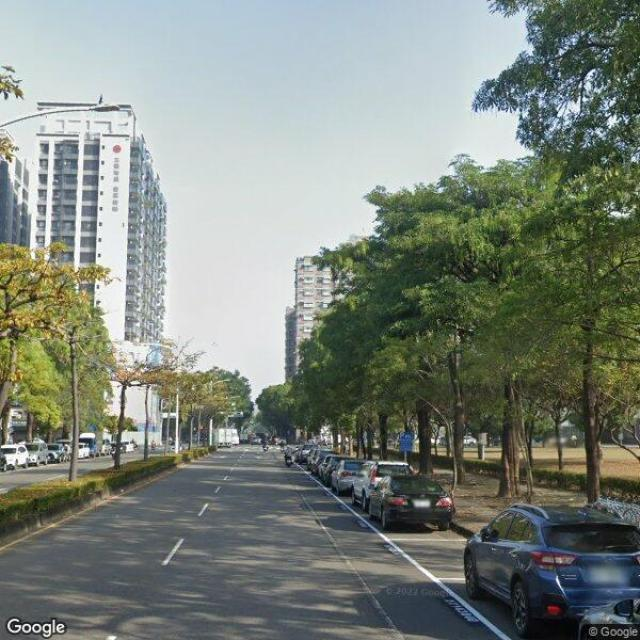Legalparking: (464, 505, 639, 637), (292, 444, 455, 530)
